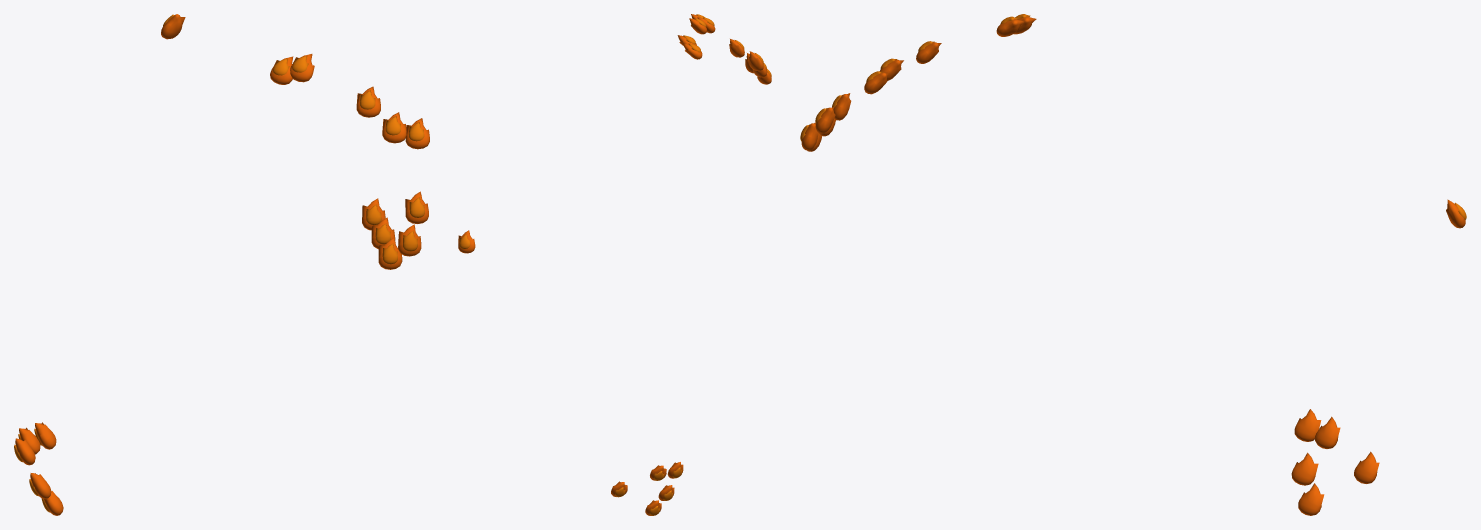
The model's file is flames.glb.
3 renders of one model, left to right at view 1: azimuth 30°, elevation 25°; view 2: azimuth 150°, elevation 25°; view 3: azimuth 270°, elevation 25°, orthographic. The views are drawn at different scales.
Visible parts, largest first — view 1: Cube.010, Cube.012, Cube.009, Cube.011, Cube.014, Cube.013; view 2: no part large enough to name; view 3: no part large enough to name.
Boxes of the visible parts, x1,y1,x2,y2 form: Cube.010: (405,191,428,223); Cube.012: (356,86,380,117); Cube.009: (382,112,406,143); Cube.011: (405,118,429,149); Cube.014: (290,54,314,82); Cube.013: (270,56,293,84).
Size of the model in its own units: 68.64 by 147 by 162.
